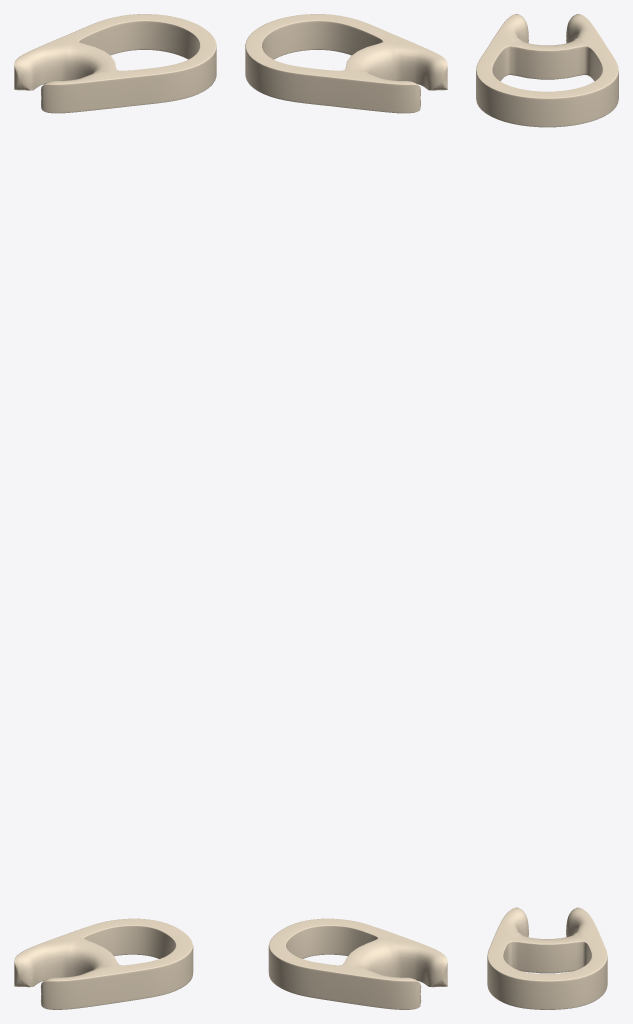
File: ubk.glb
3 views of the same model, side by side, from view 1: azimuth 30°, elevation 25°; view 2: azimuth 150°, elevation 25°; view 3: azimuth 270°, elevation 25° (orthographic).
Visible parts, largest first — view 1: ubk; view 2: ubk; view 3: ubk.
Part boxes in pixels (x1,y1,x2,y2): ubk: (14,14,216,1009); ubk: (245,14,447,1009); ubk: (476,14,618,1009).
Bounding box in the file's own units: 0.0791 × 0.3926 × 0.0551.
